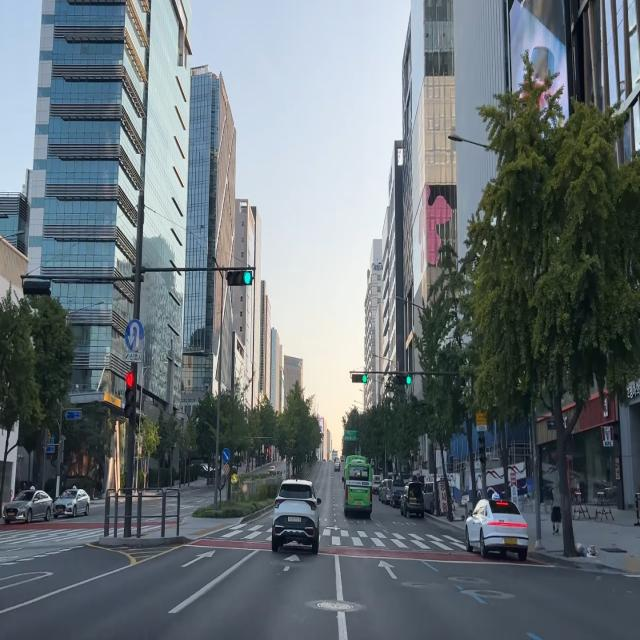Green Light: (243, 270, 252, 285), (362, 373, 367, 382), (406, 375, 411, 384)
